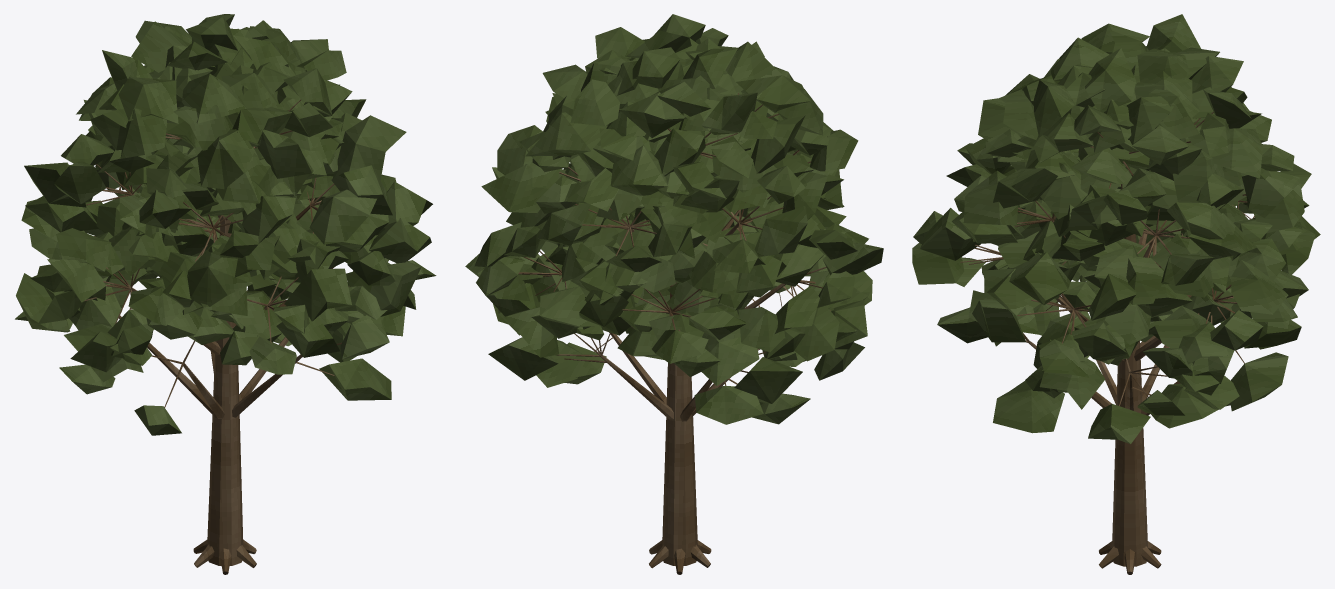
The model's file is tree_01.glb.
The picture shows the model from 3 angles, left to right: view 1: azimuth 30°, elevation 25°; view 2: azimuth 150°, elevation 25°; view 3: azimuth 270°, elevation 25°; orthographic projection. The views are drawn at different scales.
Parts seen in each view (by area): view 1: tree_01; view 2: tree_01; view 3: tree_01.
Part boxes in pixels (x1,y1,x2,y2): tree_01: (15, 14, 436, 574); tree_01: (465, 14, 883, 574); tree_01: (912, 14, 1320, 574).
Bounding box in the file's own units: 4.6 × 6.4 × 4.6.
Materials: 2 (2 with a texture image).
